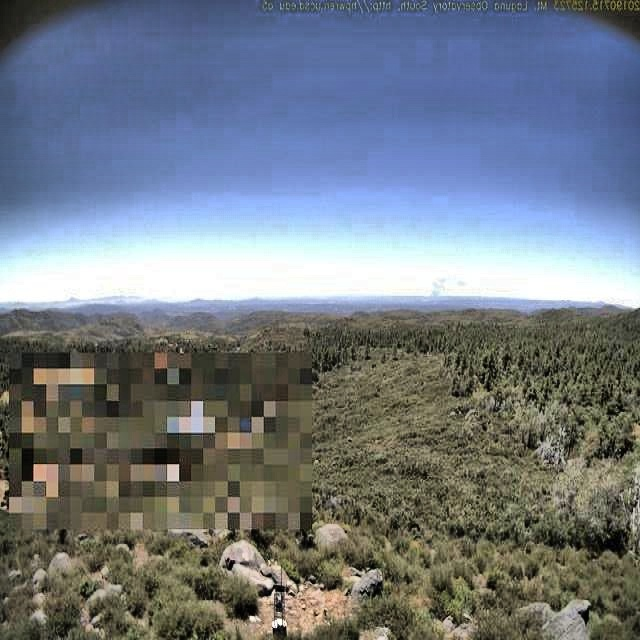smoke: (428, 274, 464, 302)
